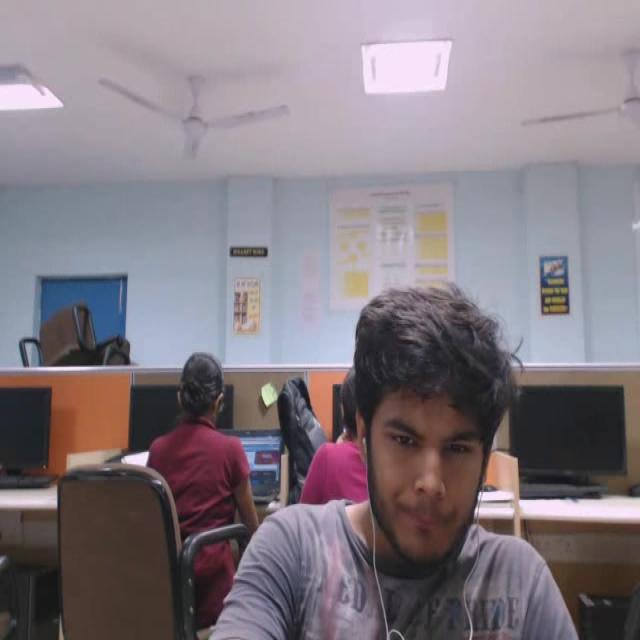Engaged: (346, 274, 535, 582)
